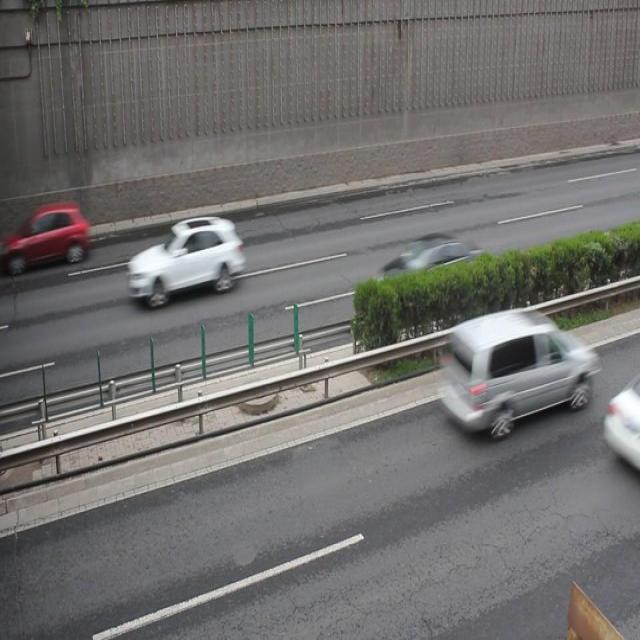car: (126, 212, 244, 305), (376, 231, 484, 313), (13, 203, 91, 271), (601, 380, 640, 464)
truck: (436, 304, 590, 437)
